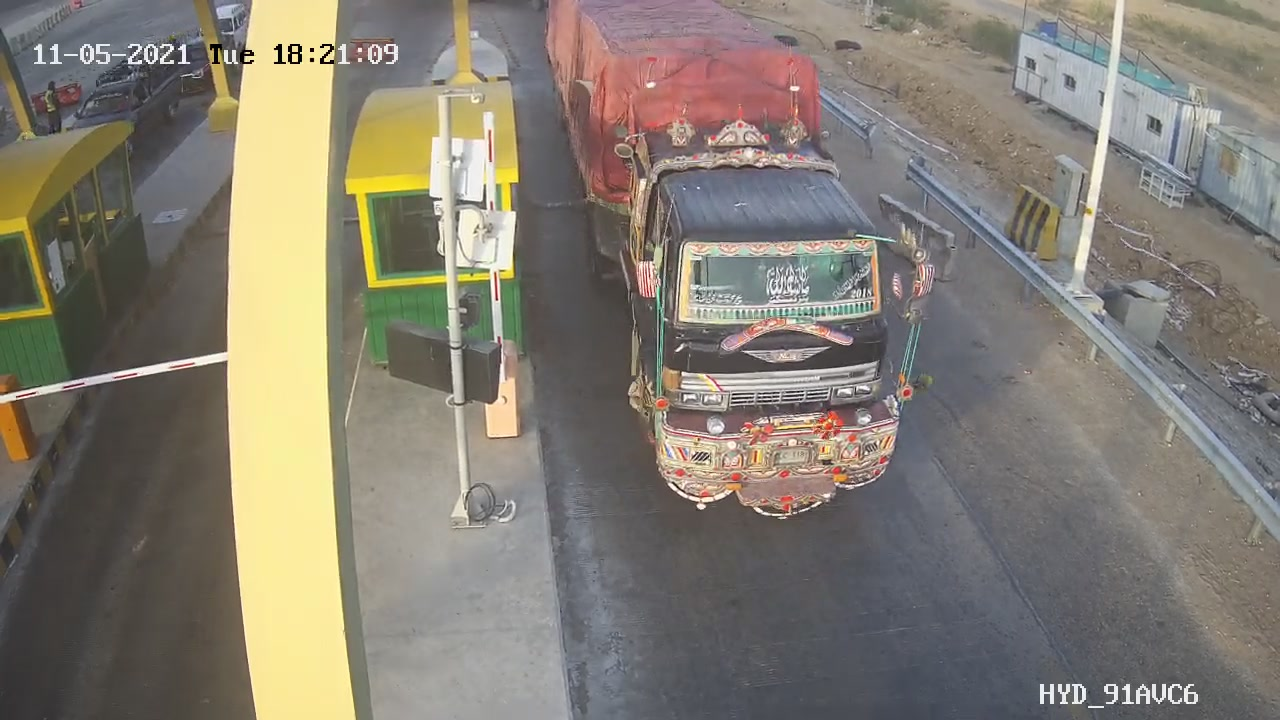F6: (545, 1, 920, 519)
